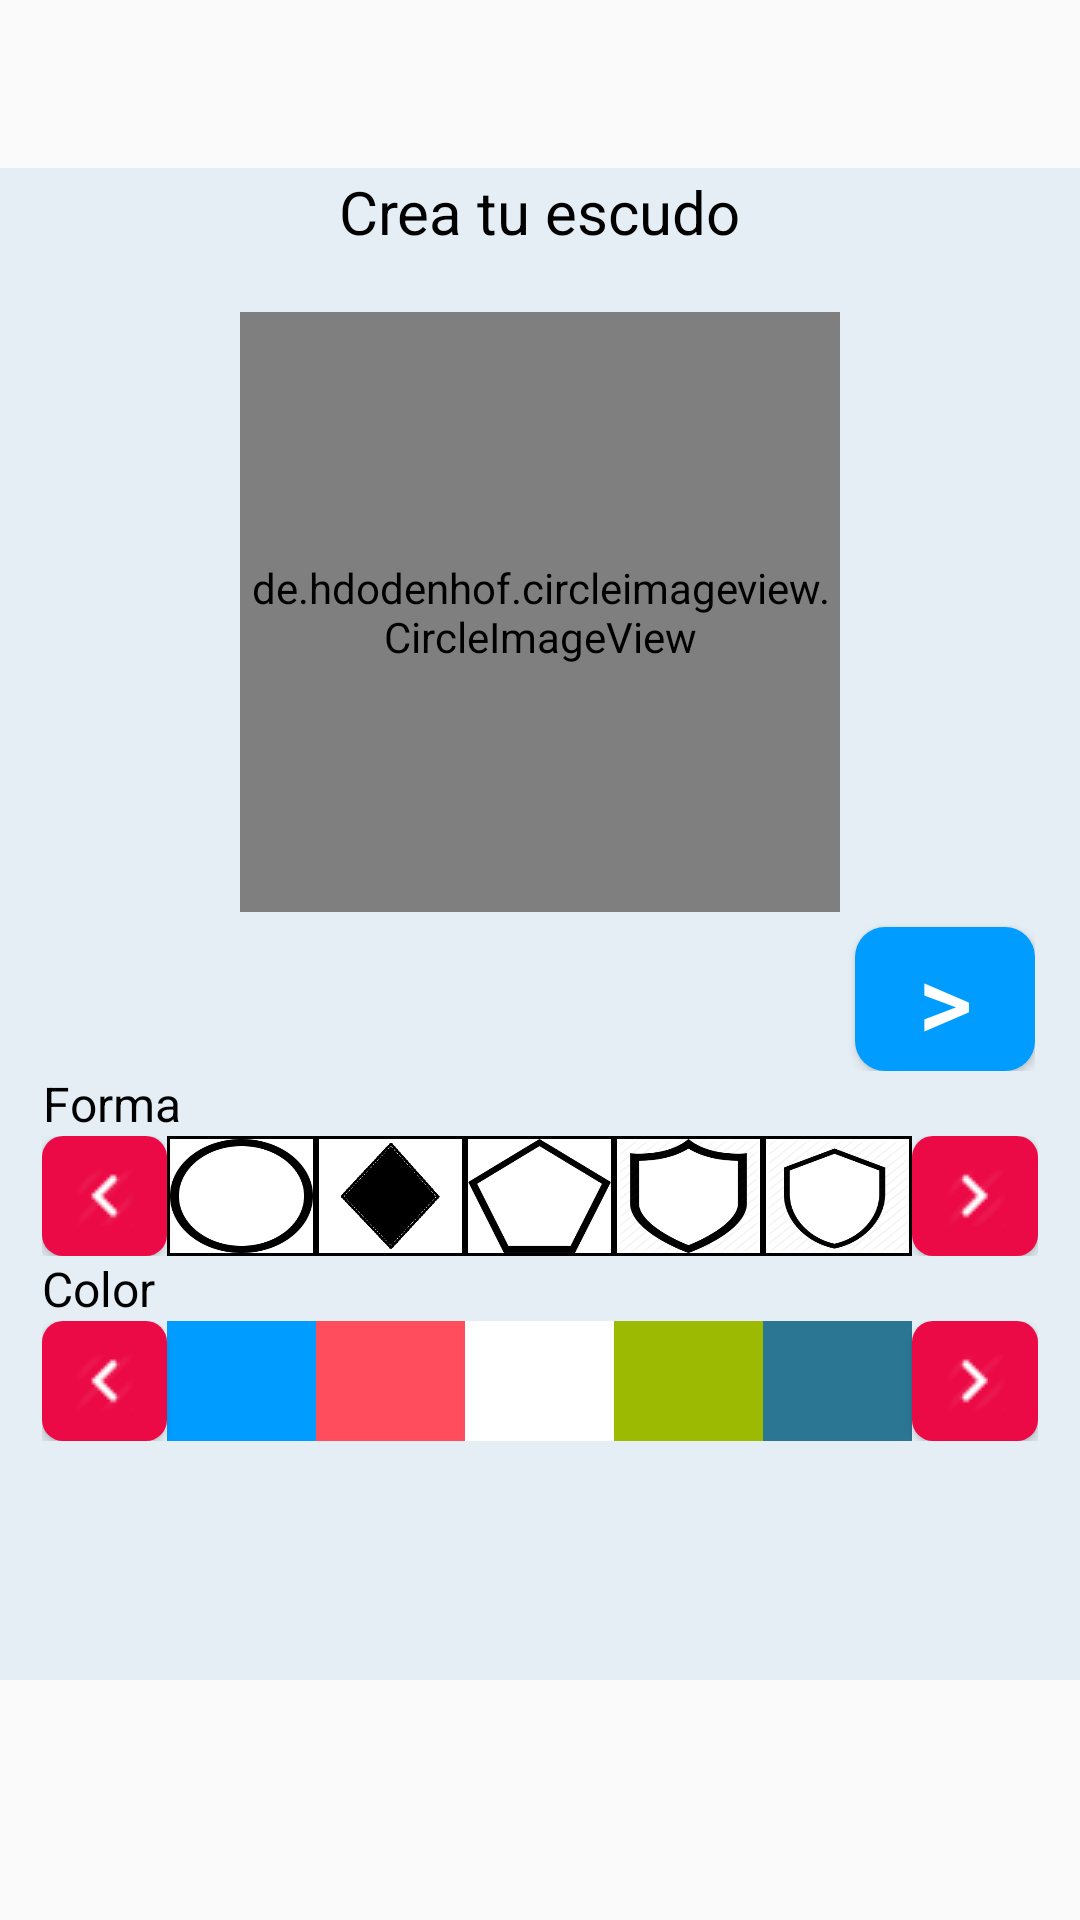

Screen size 1080w x 1920h. Icon name, then its center in pixels as (x=x, y=y):
emblem shape: (x=241, y=1196), (x=390, y=1196), (x=539, y=1196), (x=688, y=1196), (x=837, y=1196)
